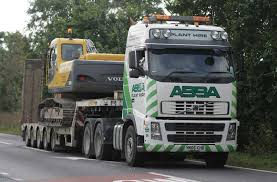excavator: (47, 30, 122, 125)
truck: (21, 16, 243, 166)
